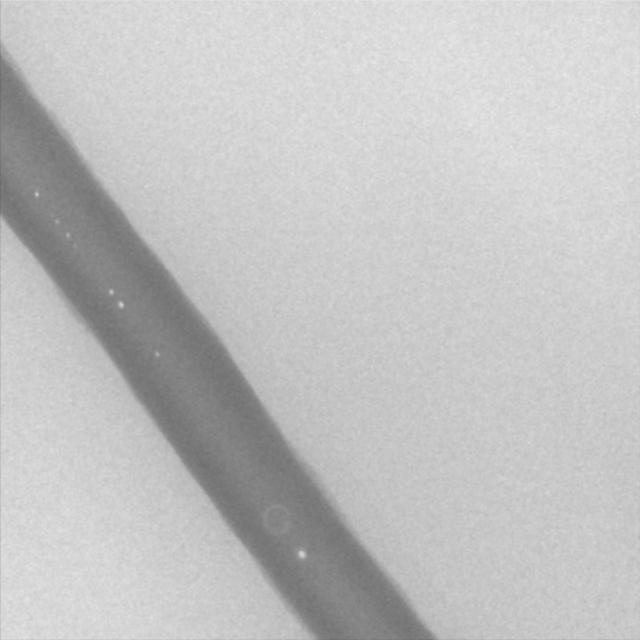air hole: (296, 548, 307, 559), (106, 285, 115, 297), (117, 299, 125, 310), (52, 216, 60, 226), (63, 229, 70, 240), (33, 189, 40, 199), (153, 349, 160, 357)
hollow bead: (260, 502, 292, 537)
